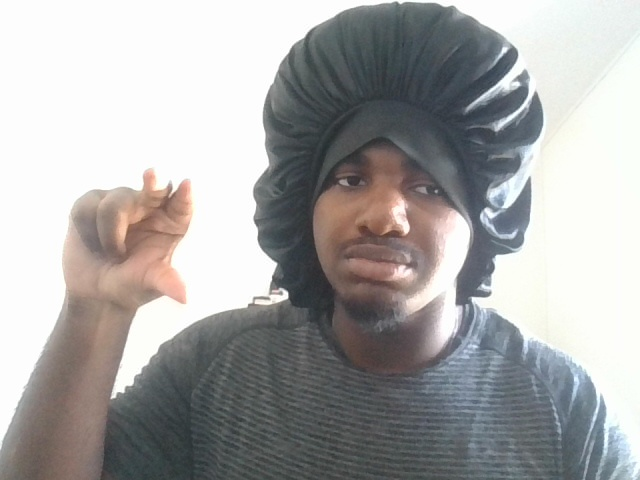No: (53, 134, 235, 327)
